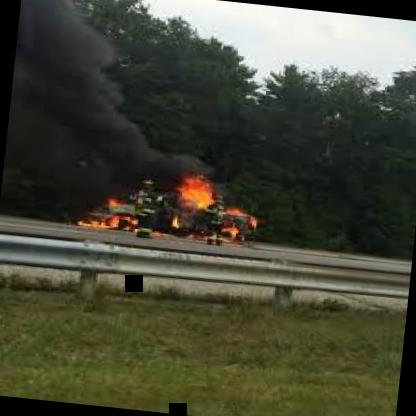fire: (75, 143, 258, 243)
